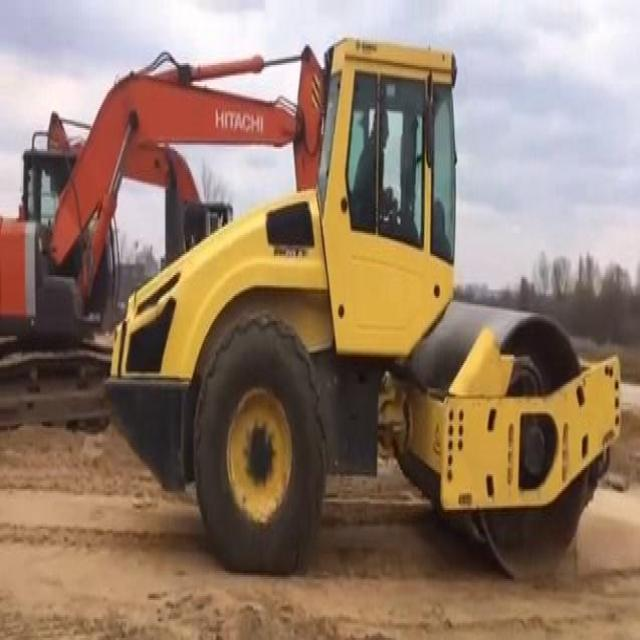excavator: (0, 32, 326, 354)
